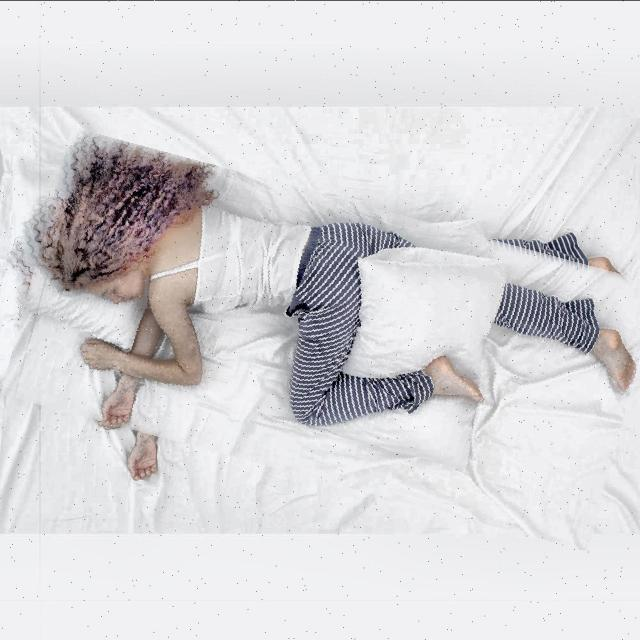Not_Supine: (39, 142, 636, 426)
